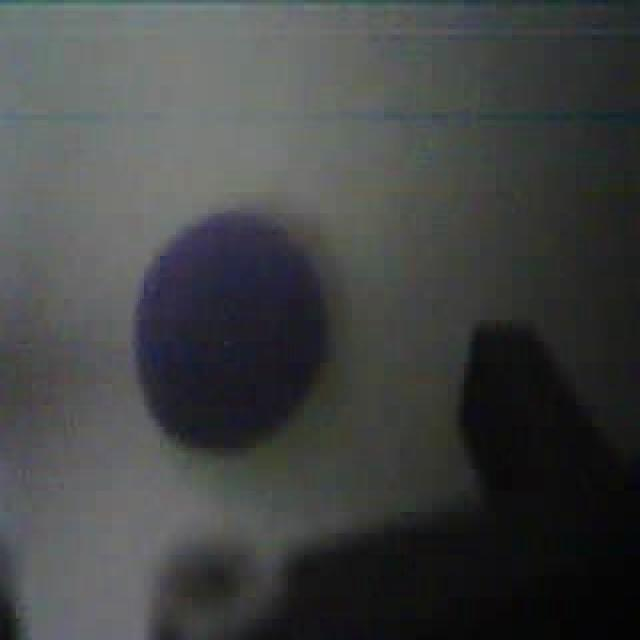blue_ball: (128, 203, 332, 456)
